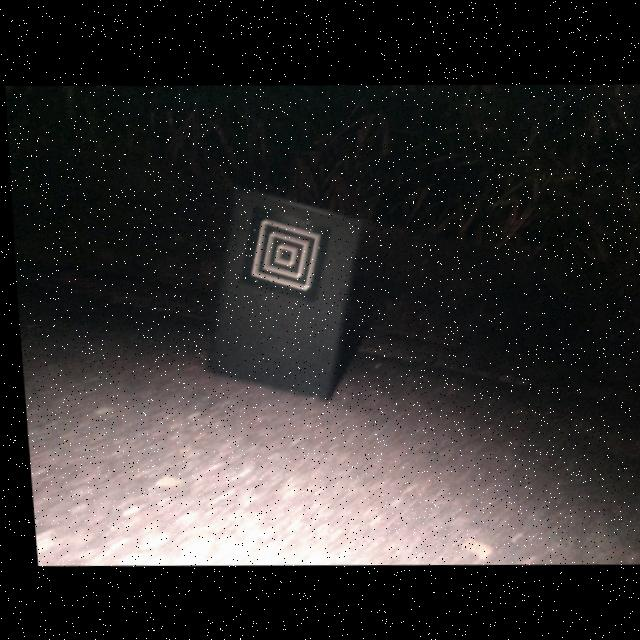BULLSEYE: (246, 219, 317, 290)
